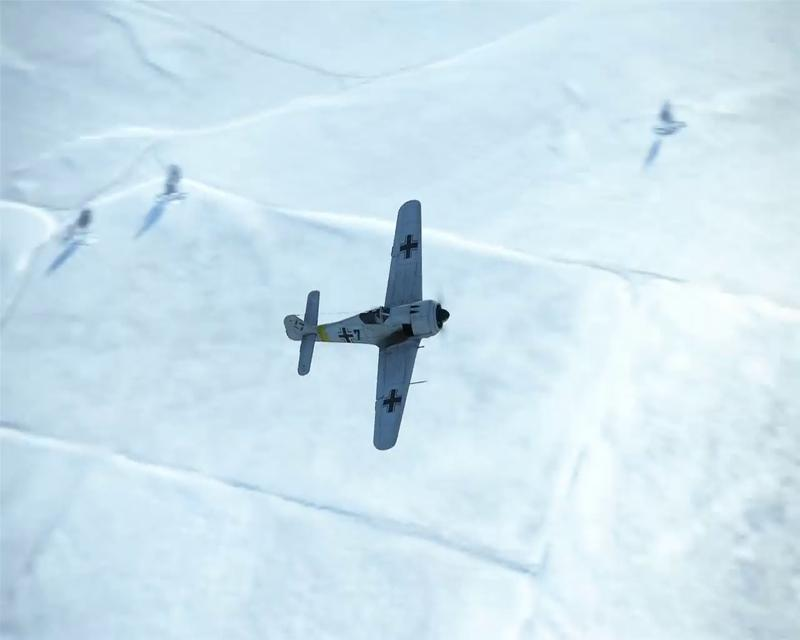UAV: (284, 200, 453, 451)
